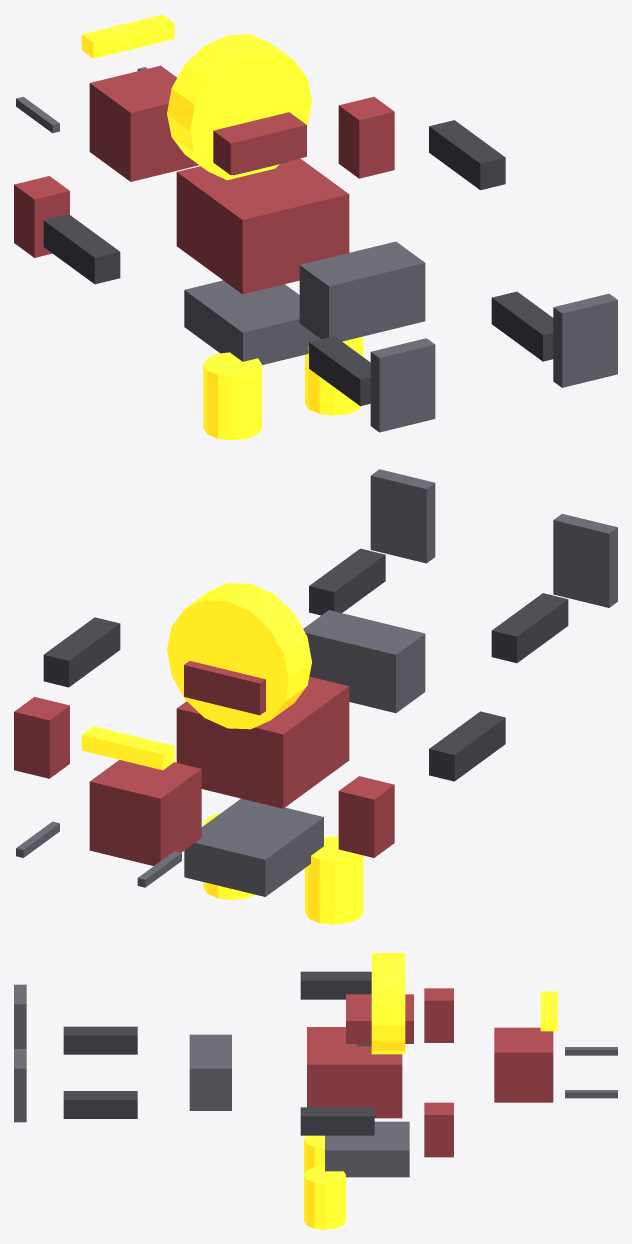
File: scorpio-drone.gltf
The picture shows the model from 3 angles, top to bottom: view 1: azimuth 30°, elevation 25°; view 2: azimuth 150°, elevation 25°; view 3: azimuth 270°, elevation 25°; orthographic projection. The views are drawn at different scales.
Parts seen in each view (by area): view 1: DroneMesh; view 2: DroneMesh; view 3: DroneMesh.
Boxes of the visible parts, x1,y1,x2,y2 form: DroneMesh: (14, 14, 617, 440); DroneMesh: (14, 469, 617, 924); DroneMesh: (14, 953, 617, 1229).
Size of the model in its own units: 0.81 by 0.64 by 1.43.
